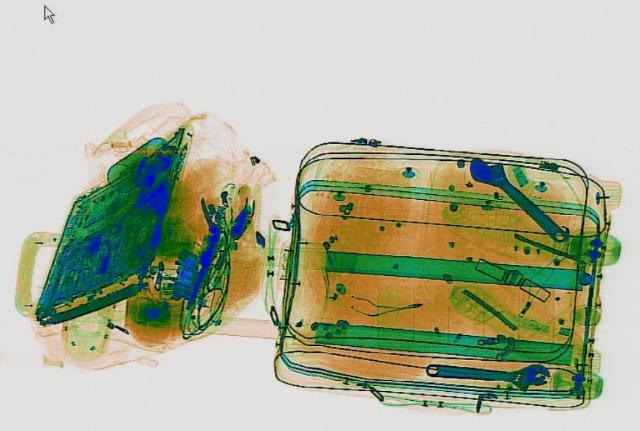Wrench: (455, 150, 581, 245), (422, 354, 552, 393)
